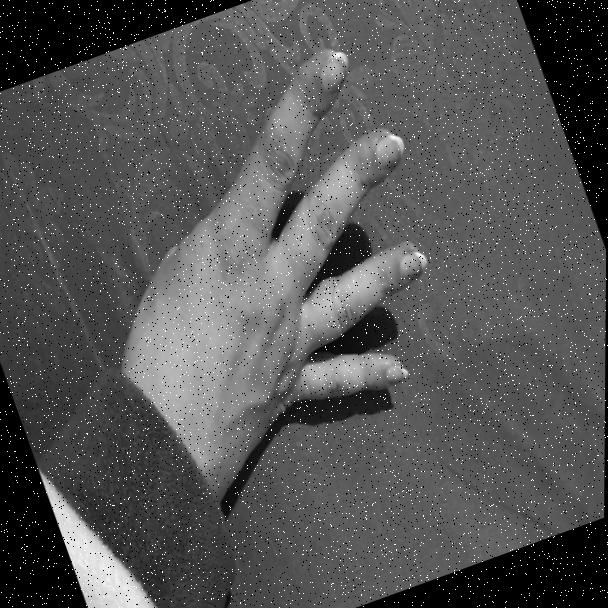four: (65, 22, 497, 488)
